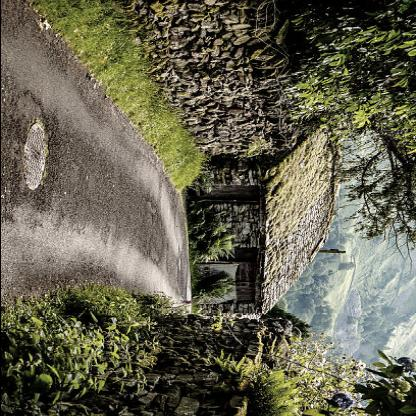manholes: (11, 118, 59, 194)
